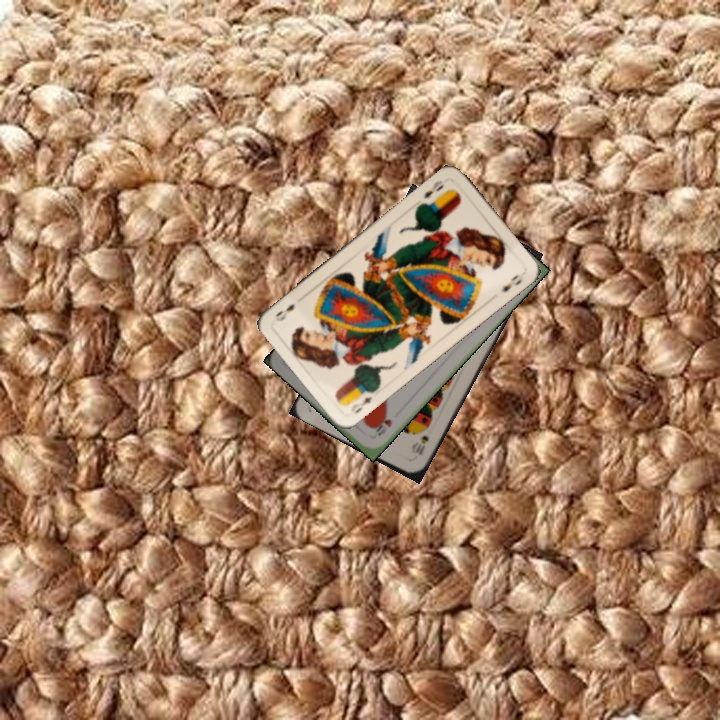EO: (347, 386, 378, 416), (419, 176, 446, 201)
HO: (370, 415, 395, 438)
S10: (411, 431, 431, 458)
